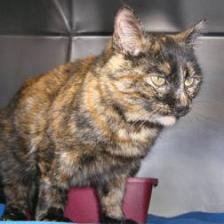cat: (103, 3, 216, 132)
